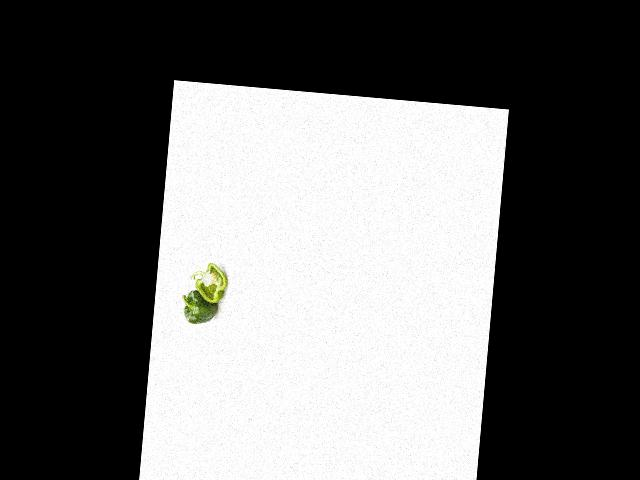bell_pepper: (186, 259, 228, 305)
